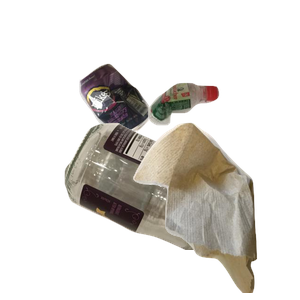glass: (62, 120, 300, 300)
metal: (77, 61, 222, 191)
plastic: (146, 80, 300, 198)
trash: (131, 120, 300, 300)
